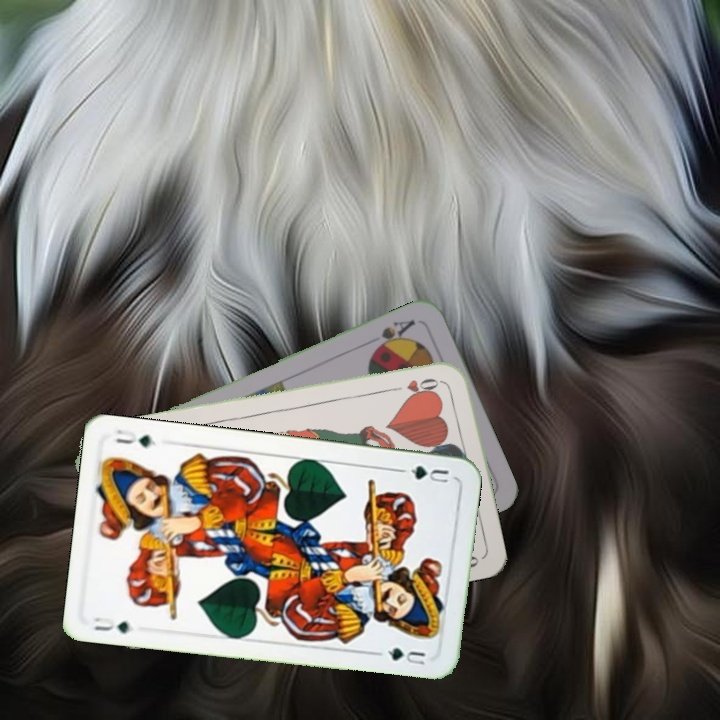GU: (406, 461, 452, 486), (90, 613, 136, 636)
HO: (386, 374, 445, 395)
SA: (369, 315, 418, 355)
